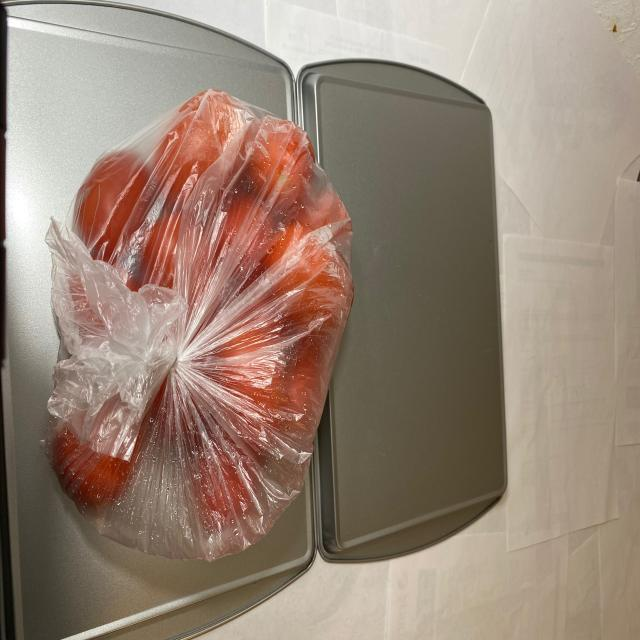tomato: (48, 92, 353, 554)
